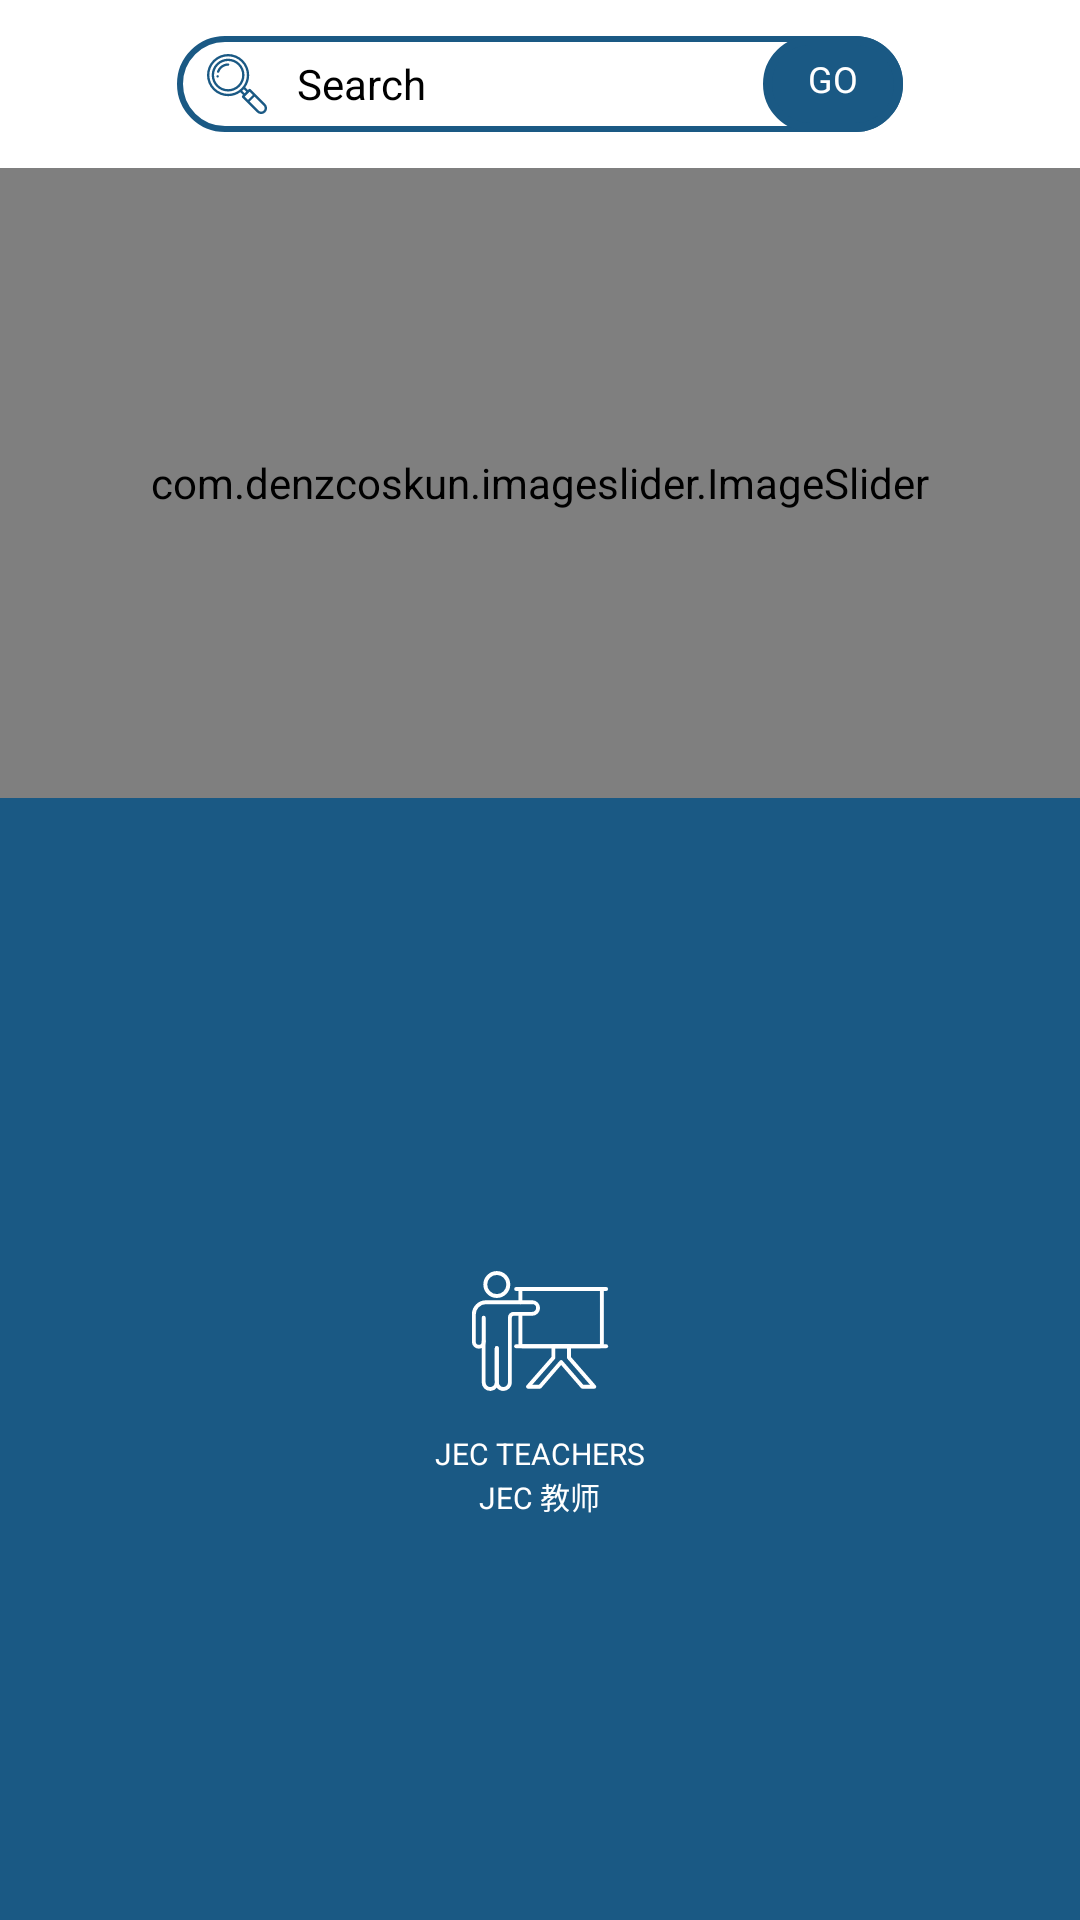

Screen size 1080w x 1920h. Icon name, then its box in pixels as [x1=x1, y1=y1, x2=x2, y2=y2]:
presentation: [x1=472, y1=1271, x2=609, y2=1391]
